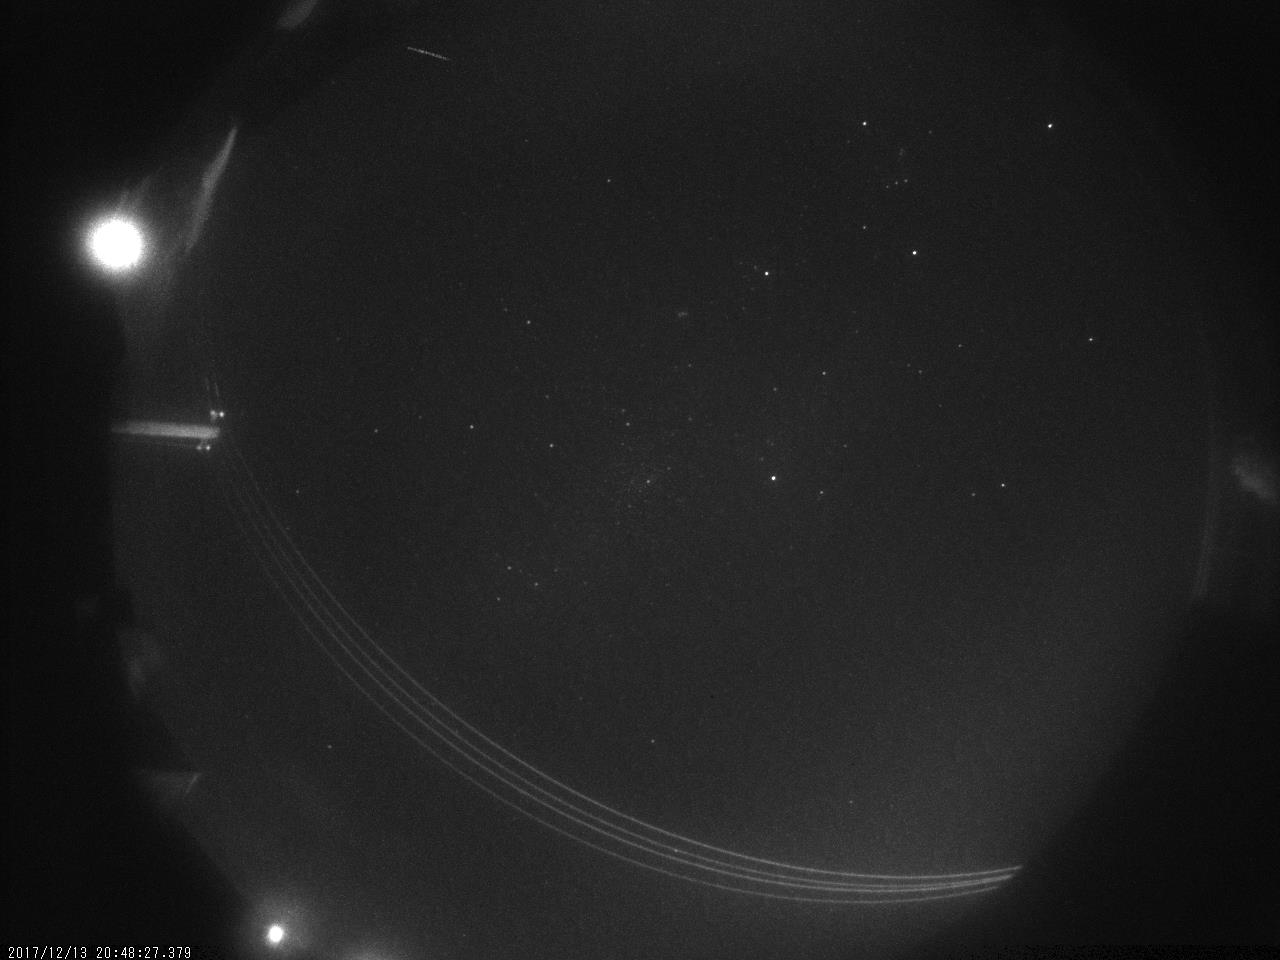meteor: (400, 30, 473, 80)
